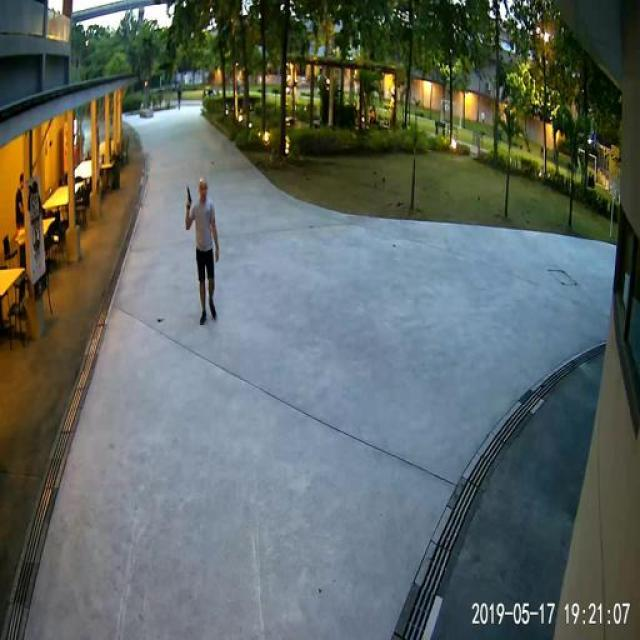Gun: (179, 180, 196, 210)
